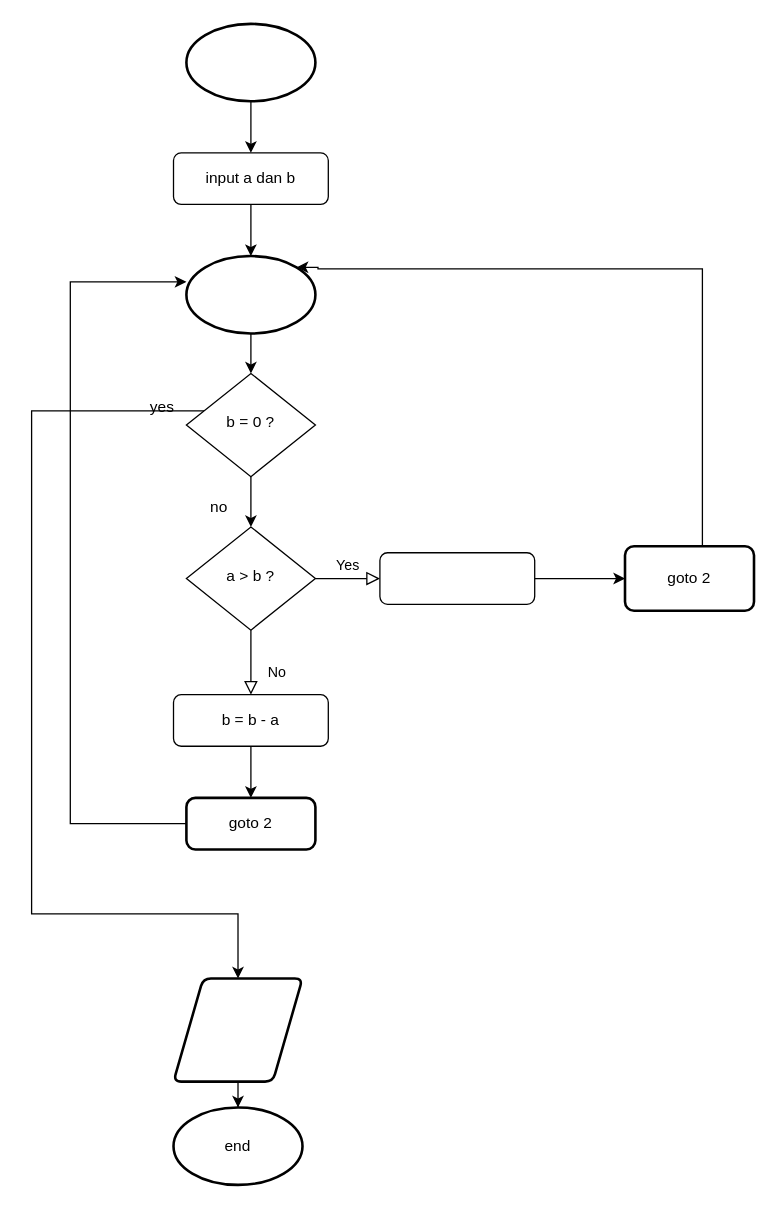
This 778x1207 diagram has some shape labels left out. The shapes that lost their labels are listed below. From the top down, each one's centre as x and y in pixels, then its label:
At pixel 250 62: "start".
At pixel 250 294: "loop".
At pixel 457 577: "a = a - b".
At pixel 237 1029: "print a".
